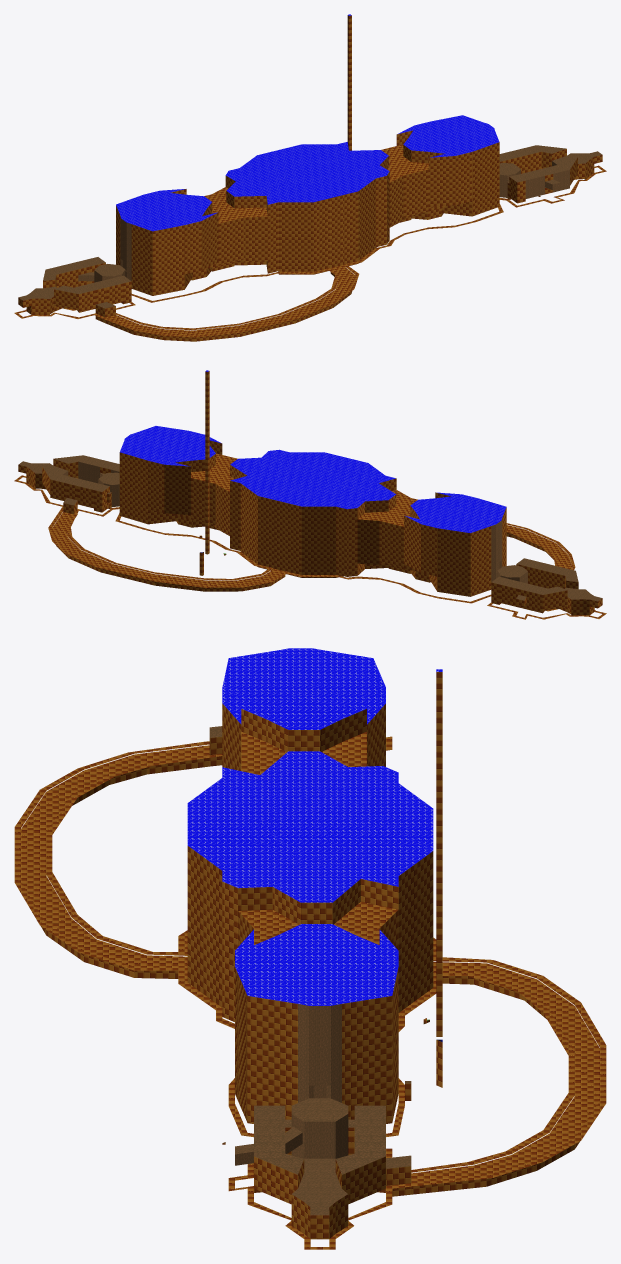
File: MAP81_LimeForest.obj
3 views of the same model, one above another, from view 1: azimuth 30°, elevation 25°; view 2: azimuth 150°, elevation 25°; view 3: azimuth 270°, elevation 25° (orthographic). The views are drawn at different scales.
Parts seen in each view (by area): view 1: MAP81; view 2: MAP81; view 3: MAP81.
Part boxes in pixels (box(x1,y1,x2,y2)): MAP81: box(14, 14, 606, 341); MAP81: box(14, 370, 606, 619); MAP81: box(14, 648, 606, 1249).
Bounding box in the file's own units: 13632 × 4608 × 6016.
